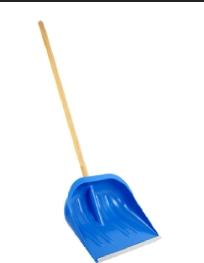PELLE: (8, 2, 168, 263)
